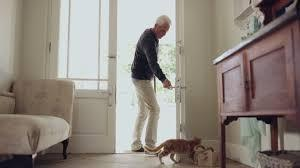Human: (123, 4, 178, 168)
